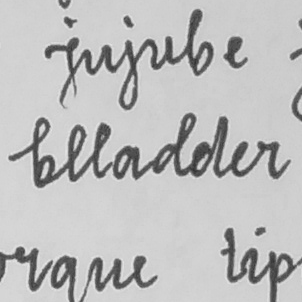a: (113, 141, 144, 181)
b: (29, 115, 59, 189)
d: (149, 110, 201, 178), (187, 111, 229, 179)
e: (230, 137, 252, 180)
l: (63, 122, 89, 184), (91, 120, 113, 181)
r: (253, 138, 293, 182)
